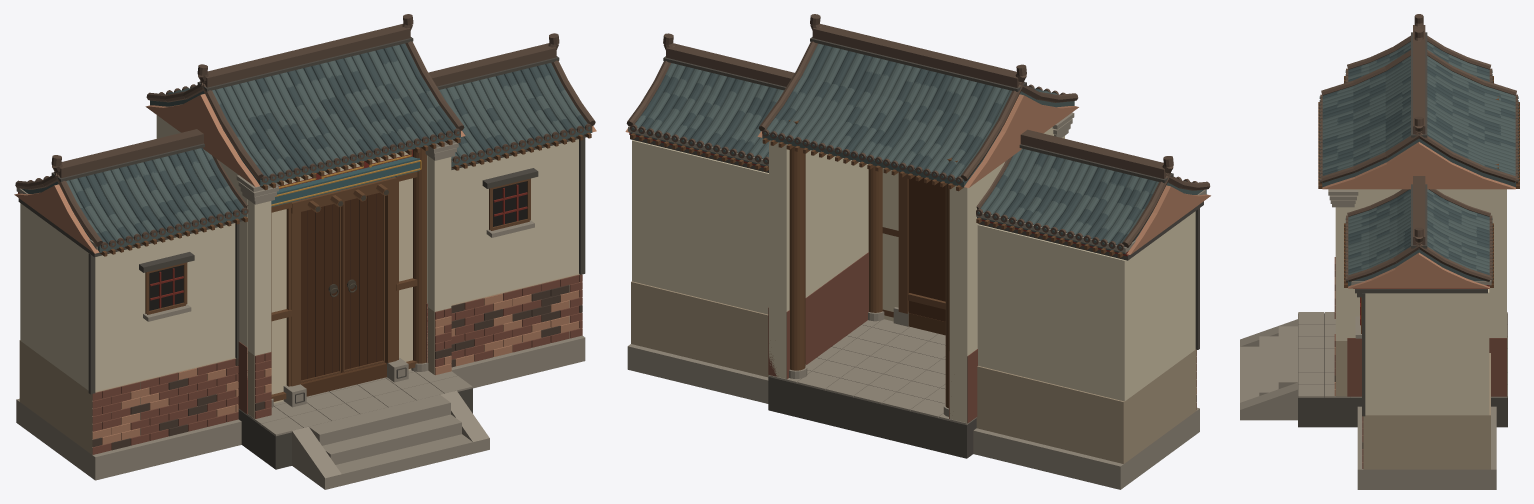
Rendered from Manzi_Gate.obj.
The picture shows the model from 3 angles, left to right: view 1: azimuth 30°, elevation 25°; view 2: azimuth 150°, elevation 25°; view 3: azimuth 270°, elevation 25°; orthographic projection. The views are drawn at different scales.
Visible parts, largest first — view 1: 72_Left_Wing_Plaster_plaster, 72_Right_Wing_Plaster_plaster, 80_Main_Barrel_Tiles_tile, 03_Three_Stone_Steps_stone, 80_Main_Barrel_Tiles_tile2, 40_Door_Right_wood_door, 40_Door_Left_wood_door, 71_Left_Wing_Brick_Skirt_Brickwork_brick, 81_Wing_Right_Barrel_Tiles_tile, 81_Wing_Left_Barrel_Tiles_tile, 70_Left_Wing_Base_stone, 02_Landing_and_Interior_Paving_stone (+53 smaller); view 2: 72_Left_Wing_Plaster_plaster, 72_Right_Wing_Plaster_plaster, 71_Left_Wing_Brick_Skirt_Core_mortar, 80_Main_Barrel_Tiles_tile, 10_Main_Right_Side_Wall_plaster, 02_Landing_and_Interior_Paving_stone, 71_Right_Wing_Brick_Skirt_Core_mortar, 80_Main_Barrel_Tiles_tile2, 01_Main_Stone_Foundation_stone_dark, 20_Four_Eave_Columns_wood_frame, 81_Wing_Left_Barrel_Tiles_tile, 10_Main_Left_Side_Wall_plaster (+26 smaller); view 3: 72_Right_Wing_Plaster_plaster, 80_Main_Barrel_Tiles_tile, 71_Right_Wing_Brick_Skirt_Core_mortar, 80_Main_Barrel_Tiles_tile2, 81_Wing_Right_Barrel_Tiles_tile, 10_Main_Right_Side_Wall_plaster, 80_Main_Gable_Wall_brick_light, 70_Right_Wing_Base_stone, 02_Landing_and_Interior_Paving_stone, 03_Three_Stone_Steps_stone, 81_Wing_Right_Barrel_Tiles_tile2, 80_Main_Gable_Coping_ridge (+22 smaller).
Boxes of the visible parts, <box> form: 72_Left_Wing_Plaster_plaster: <box>20,203,235,391</box>; 72_Right_Wing_Plaster_plaster: <box>451,139,578,304</box>; 80_Main_Barrel_Tiles_tile: <box>164,45,443,178</box>; 03_Three_Stone_Steps_stone: <box>309,395,472,485</box>; 80_Main_Barrel_Tiles_tile2: <box>167,43,456,180</box>; 40_Door_Right_wood_door: <box>341,192,384,372</box>; 40_Door_Left_wood_door: <box>301,204,341,382</box>; 71_Left_Wing_Brick_Skirt_Brickwork_brick: <box>92,359,238,454</box>; 81_Wing_Right_Barrel_Tiles_tile: <box>439,75,581,160</box>; 81_Wing_Left_Barrel_Tiles_tile: <box>40,148,237,242</box>; 70_Left_Wing_Base_stone: <box>16,398,241,480</box>; 02_Landing_and_Interior_Paving_stone: <box>238,370,472,435</box>; 72_Left_Wing_Plaster_plaster: <box>977,211,1195,401</box>; 72_Right_Wing_Plaster_plaster: <box>632,140,768,314</box>; 71_Left_Wing_Brick_Skirt_Core_mortar: <box>976,349,1196,463</box>; 80_Main_Barrel_Tiles_tile: <box>767,43,1057,181</box>; 10_Main_Right_Side_Wall_plaster: <box>769,140,868,378</box>; 02_Landing_and_Interior_Paving_stone: <box>769,319,976,424</box>; 71_Right_Wing_Brick_Skirt_Core_mortar: <box>631,281,768,377</box>; 80_Main_Barrel_Tiles_tile2: <box>775,45,1041,177</box>; 01_Main_Stone_Foundation_stone_dark: <box>768,377,976,458</box>; 20_Four_Eave_Columns_wood_frame: <box>789,146,949,408</box>; 81_Wing_Left_Barrel_Tiles_tile: <box>980,148,1185,243</box>; 10_Main_Left_Side_Wall_plaster: <box>949,127,1053,422</box>; 72_Right_Wing_Plaster_plaster: <box>1365,289,1489,415</box>; 80_Main_Barrel_Tiles_tile: <box>1322,56,1515,182</box>; 71_Right_Wing_Brick_Skirt_Core_mortar: <box>1363,353,1490,469</box>; 80_Main_Barrel_Tiles_tile2: <box>1322,61,1515,182</box>; 81_Wing_Right_Barrel_Tiles_tile: <box>1348,189,1489,275</box>; 10_Main_Right_Side_Wall_plaster: <box>1347,189,1506,337</box>; 80_Main_Gable_Wall_brick_light: <box>1322,142,1515,189</box>; 70_Right_Wing_Base_stone: <box>1357,406,1496,489</box>; 02_Landing_and_Interior_Paving_stone: <box>1298,312,1507,397</box>; 03_Three_Stone_Steps_stone: <box>1240,326,1297,402</box>; 81_Wing_Right_Barrel_Tiles_tile2: <box>1348,189,1489,281</box>; 80_Main_Gable_Coping_ridge: <box>1321,50,1516,182</box>.
Bounding box in the file's own units: 6.36 × 4.26 × 3.47.
